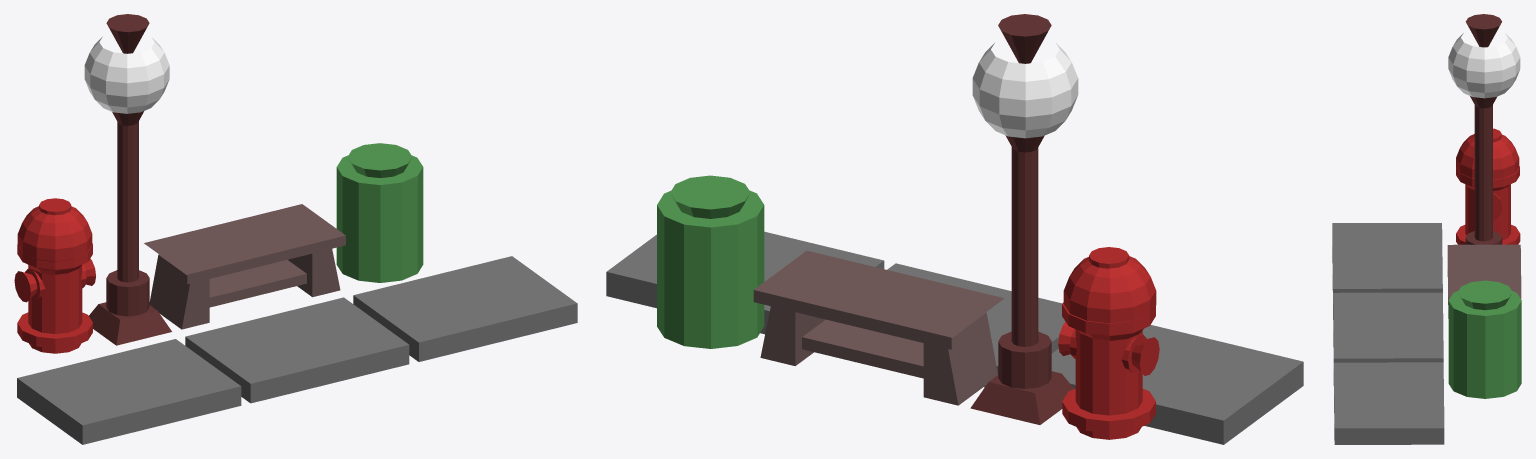
3 renders of one model, left to right at view 1: azimuth 30°, elevation 25°; view 2: azimuth 150°, elevation 25°; view 3: azimuth 270°, elevation 25°, orthographic. The views are drawn at different scales.
Parts seen in each view (by area): view 1: scene:polySurface245, scene:polySurface482, scene:polySurface283, scene:polySurface232, scene:polySurface483, scene:polySurface353; view 2: scene:polySurface482, scene:polySurface245, scene:polySurface283, scene:polySurface232, scene:polySurface483, scene:polySurface353; view 3: scene:polySurface245, scene:polySurface283, scene:polySurface483, scene:polySurface232, scene:polySurface353, scene:polySurface482.
Part boxes in pixels (left/top/right/bottom): scene:polySurface245: left=17, top=256, right=577, bottom=444; scene:polySurface482: left=144, top=204, right=345, bottom=329; scene:polySurface283: left=336, top=143, right=423, bottom=282; scene:polySurface232: left=14, top=198, right=95, bottom=353; scene:polySurface483: left=89, top=14, right=171, bottom=345; scene:polySurface353: left=84, top=36, right=169, bottom=113; scene:polySurface482: left=753, top=250, right=1004, bottom=405; scene:polySurface245: left=606, top=231, right=1303, bottom=444; scene:polySurface283: left=657, top=175, right=764, bottom=348; scene:polySurface232: left=1058, top=247, right=1159, bottom=439; scene:polySurface483: left=970, top=14, right=1073, bottom=424; scene:polySurface353: left=972, top=42, right=1078, bottom=138; scene:polySurface245: left=1332, top=223, right=1444, bottom=444; scene:polySurface283: left=1448, top=280, right=1521, bottom=398; scene:polySurface483: left=1465, top=14, right=1502, bottom=244; scene:polySurface232: left=1456, top=128, right=1520, bottom=244; scene:polySurface353: left=1448, top=33, right=1520, bottom=98; scene:polySurface482: left=1447, top=244, right=1521, bottom=318.
Size of what is drawn, in the model's own units: 12.36 by 7.69 by 4.82.
